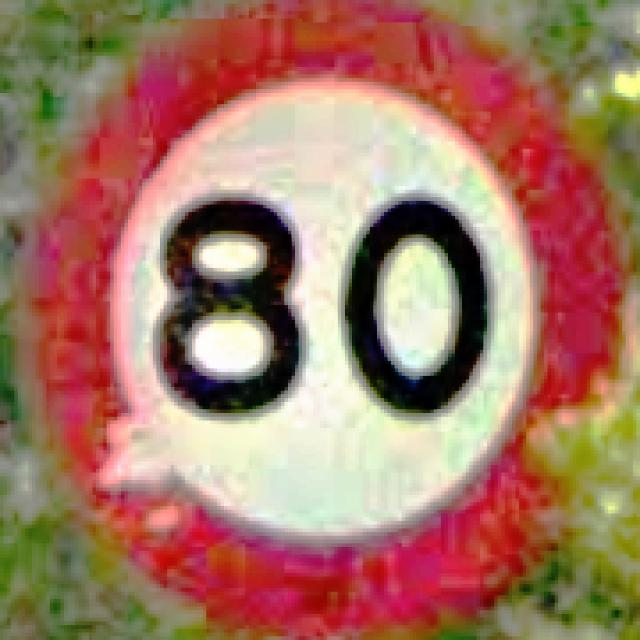max80: (14, 0, 636, 636)
